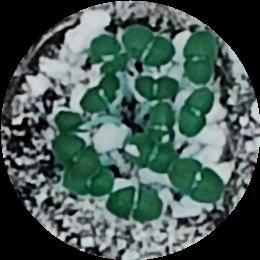Basil: (169, 151, 221, 203), (46, 131, 100, 174), (107, 188, 165, 221), (126, 25, 170, 67), (180, 86, 217, 135), (79, 74, 120, 116), (187, 29, 218, 82), (61, 165, 114, 196), (129, 134, 169, 173), (93, 34, 127, 76), (134, 73, 180, 100), (152, 106, 176, 146), (54, 110, 89, 131)
